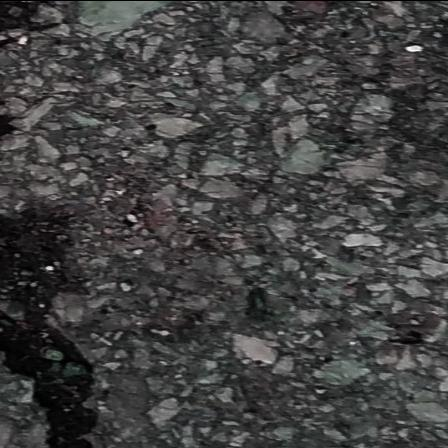crack: (0, 194, 112, 448)
